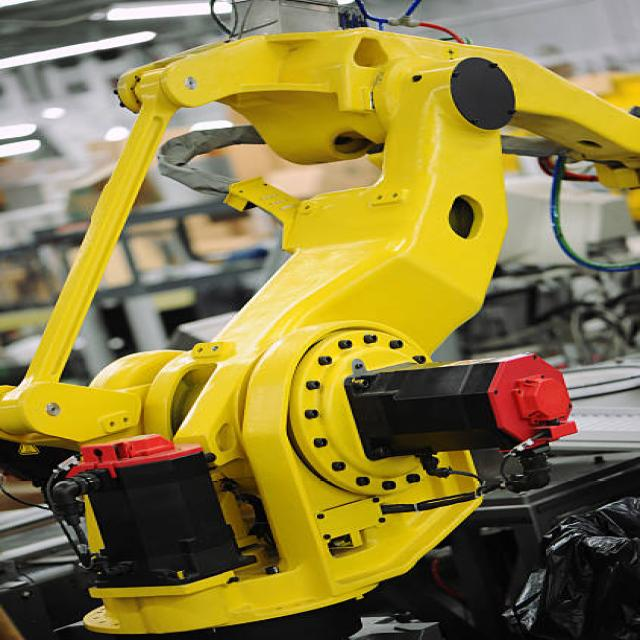Robotic-arm: (0, 24, 632, 640)
